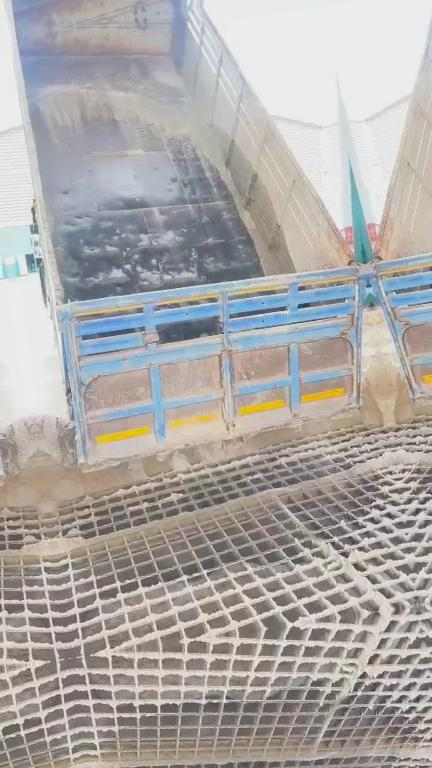sand: (36, 84, 279, 273), (52, 452, 396, 556), (33, 414, 359, 506), (314, 535, 392, 611), (361, 369, 389, 424), (152, 70, 179, 86)
